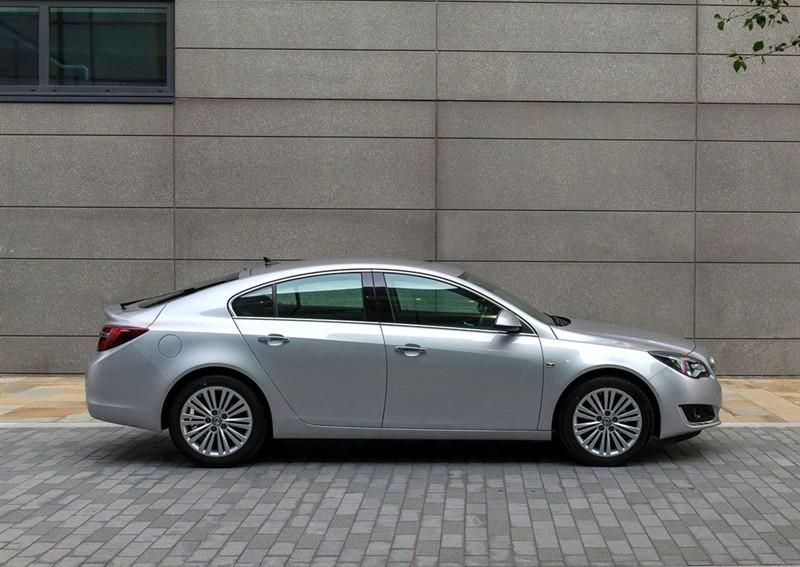Wagon: (85, 258, 722, 468)
